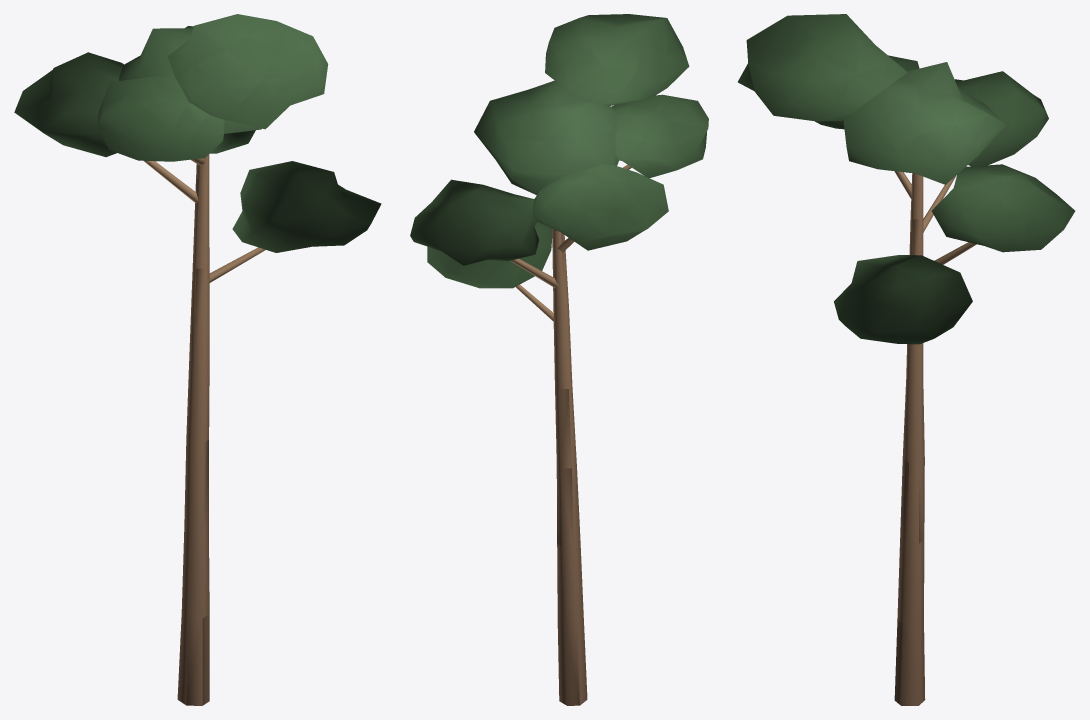
Rendered from pin_lod0.glb.
3 views of the same model, side by side, from view 1: azimuth 30°, elevation 25°; view 2: azimuth 150°, elevation 25°; view 3: azimuth 270°, elevation 25° (orthographic). The views are drawn at different scales.
Visible parts, largest first — view 1: pin_lod0; view 2: pin_lod0; view 3: pin_lod0.
Boxes of the visible parts, left/top/right/bottom form: pin_lod0: left=14, top=14, right=381, bottom=705; pin_lod0: left=410, top=14, right=708, bottom=705; pin_lod0: left=738, top=14, right=1075, bottom=705.
Size of the model in its own units: 7.86 by 17.78 by 8.11.
